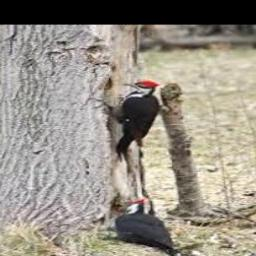Woodpecker: (90, 81, 161, 162), (96, 199, 173, 251)
